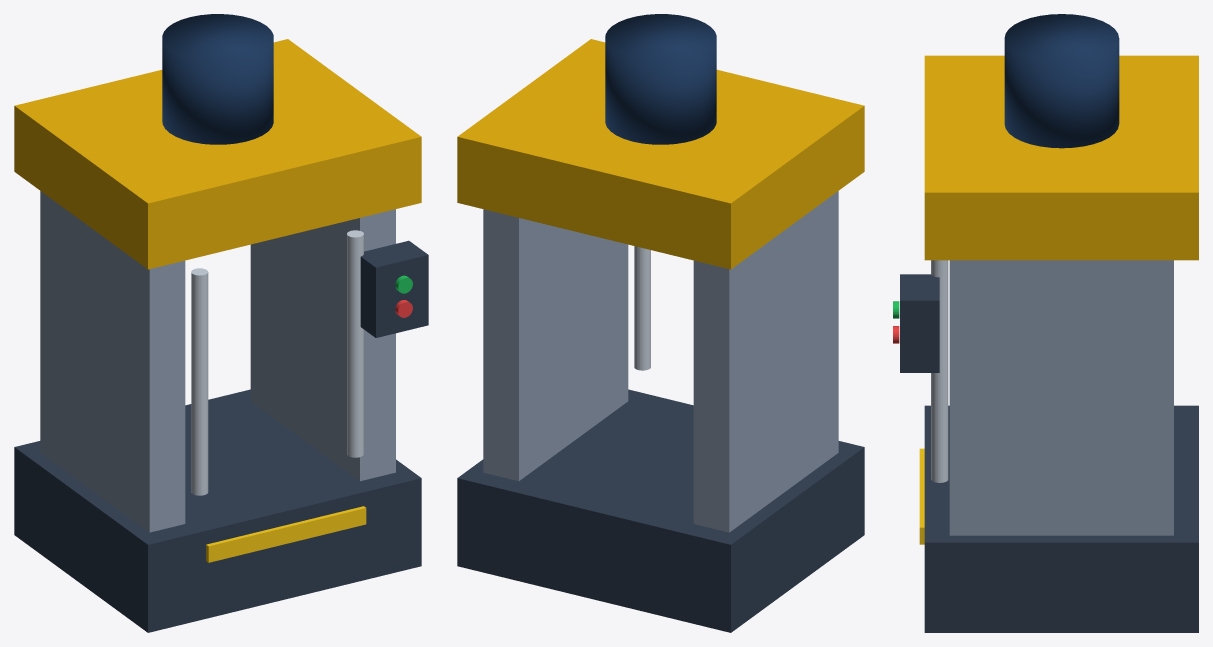
File: press.glb
The picture shows the model from 3 angles, left to right: view 1: azimuth 30°, elevation 25°; view 2: azimuth 150°, elevation 25°; view 3: azimuth 270°, elevation 25°; orthographic projection. The views are drawn at different scales.
Visible parts, largest first — view 1: Press_Top, Press_Base, Press_Column_Left, Press_Column_Right, Hydraulic_Housing, Press_ControlBox, GuideRod_Left, GuideRod_Right, Press_WarningStripe; view 2: Press_Base, Press_Top, Press_Column_Left, Press_Column_Right, Hydraulic_Housing, GuideRod_Right; view 3: Press_Column_Right, Press_Top, Press_Base, Hydraulic_Housing, Press_ControlBox, GuideRod_Right, Press_WarningStripe.
Boxes of the visible parts, x1,y1,x2,y2 form: Press_Top: (14,39,421,269); Press_Base: (14,389,421,632); Press_Column_Left: (40,191,185,532); Press_Column_Right: (250,209,395,481); Hydraulic_Housing: (162,14,273,144); Press_ControlBox: (360,240,428,337); GuideRod_Left: (191,268,208,495); GuideRod_Right: (347,230,363,457); Press_WarningStripe: (206,506,366,562); Press_Base: (457,389,864,632); Press_Top: (457,39,864,269); Press_Column_Left: (693,191,838,532); Press_Column_Right: (483,209,628,481); Hydraulic_Housing: (605,14,716,144); GuideRod_Right: (634,246,650,370); Press_Column_Right: (949,260,1173,535); Press_Top: (924,55,1198,260); Press_Base: (924,405,1198,632); Hydraulic_Housing: (1004,14,1119,148); Press_ControlBox: (900,274,939,372); GuideRod_Right: (931,260,948,482); Press_WarningStripe: (919,448,924,544).
Size of the model in its own units: 1.3 by 2.33 by 1.23.
